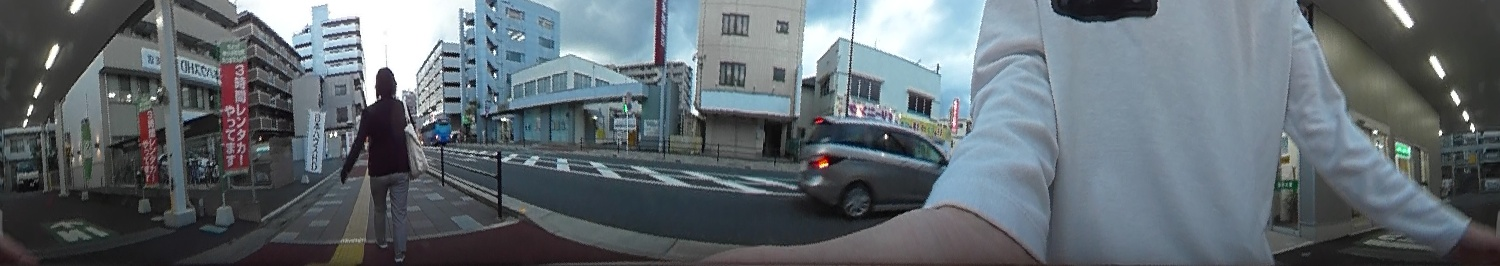person: (337, 62, 428, 261)
